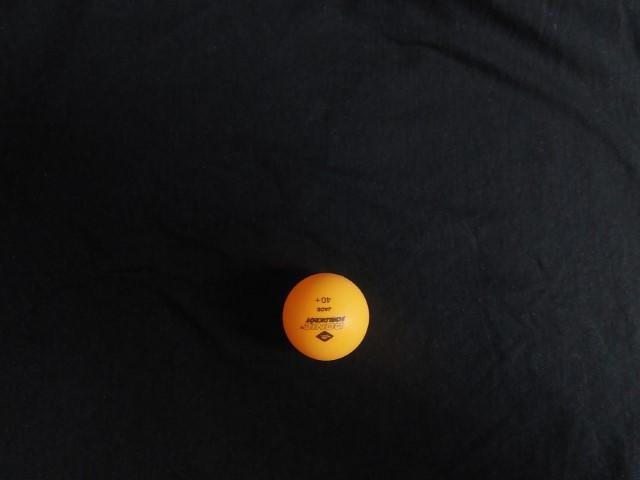oball: (276, 268, 378, 368)
